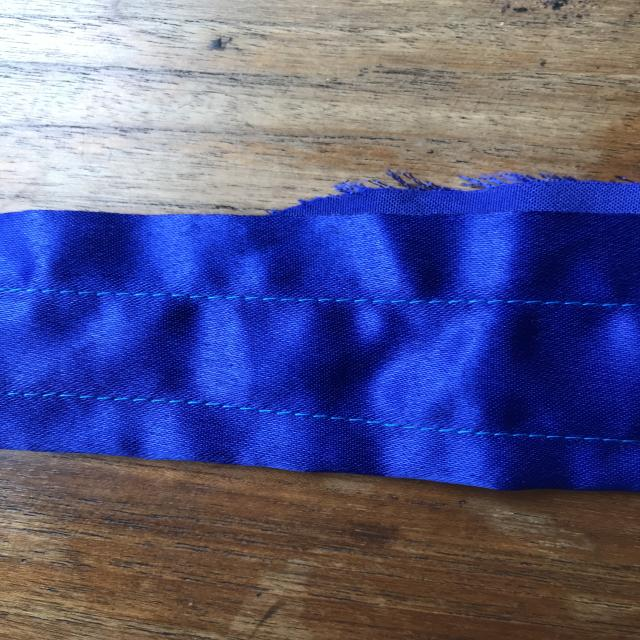good: (307, 278, 531, 323), (286, 404, 491, 444)
